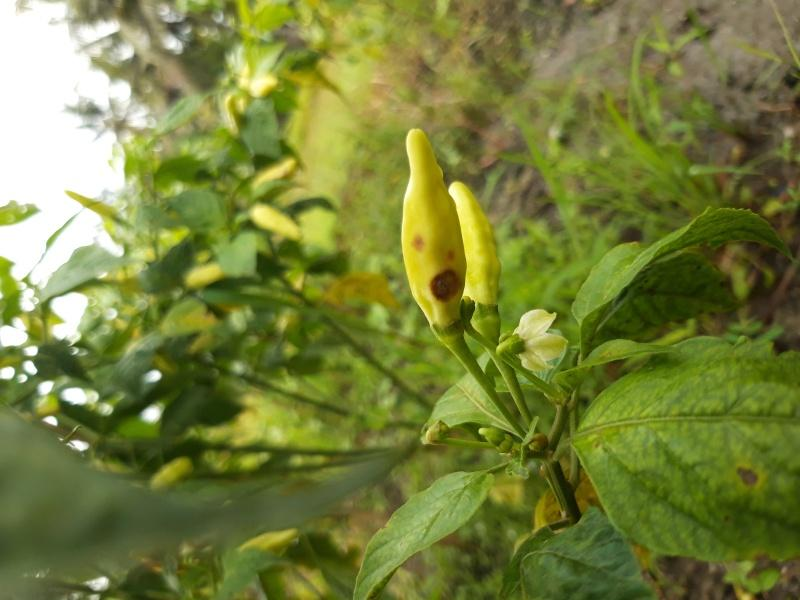antraknosa: (403, 127, 467, 330)
cabai_normal: (450, 180, 502, 306)
